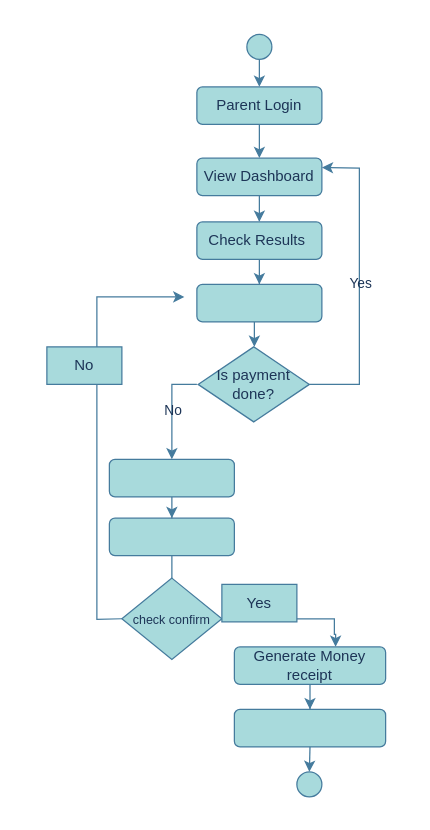
Image size: 430x830. Some labels were removed from this diagram. The shapes that lost their labels are listed below. From the top down, each one's centre as x and y in pixels, then its label:
At point (259, 302): "view Next two month Fees".
At point (171, 477): "System Send SMS".
At point (171, 536): "Select Method".
At point (309, 727): "Print".
